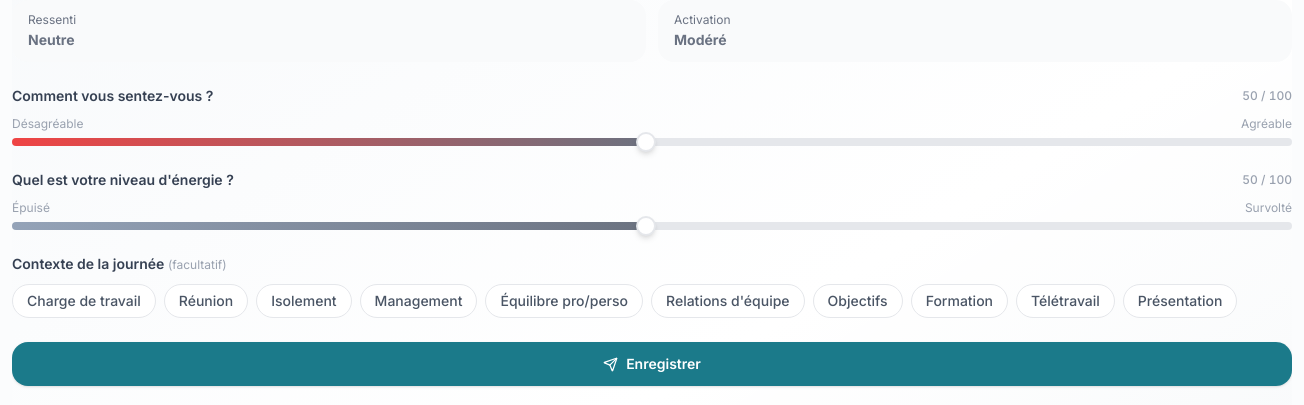
Test: MoodForm — Sliders circomplexes › met à jour l'indicateur de valence quand le slider change
Set the slider named "Valence" to "90" at (1156, 142), box [12,138,1292,146]
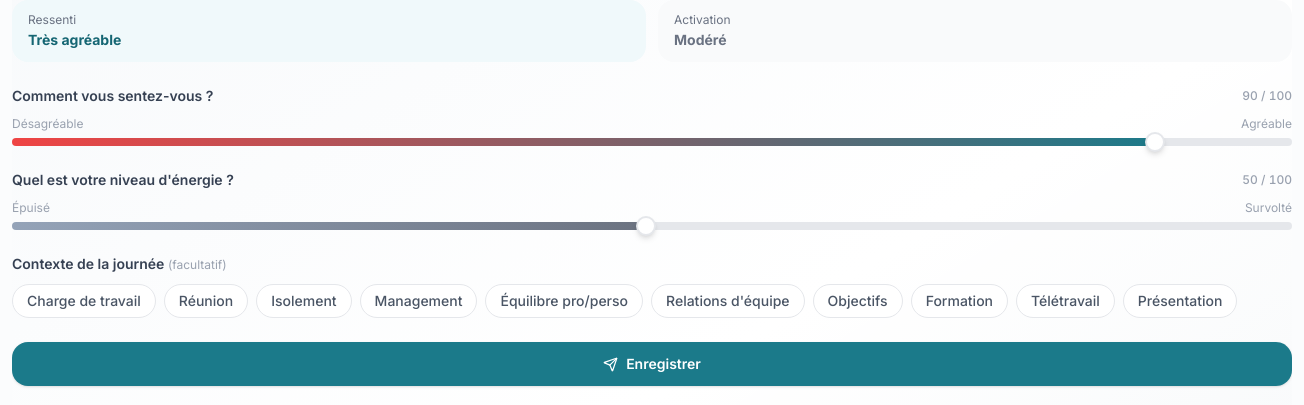
expect the text "Très agréable" is shown: met, box [28,31,121,48]
